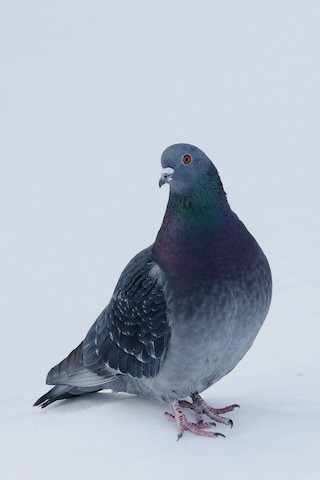pigeon: (32, 136, 277, 445)
